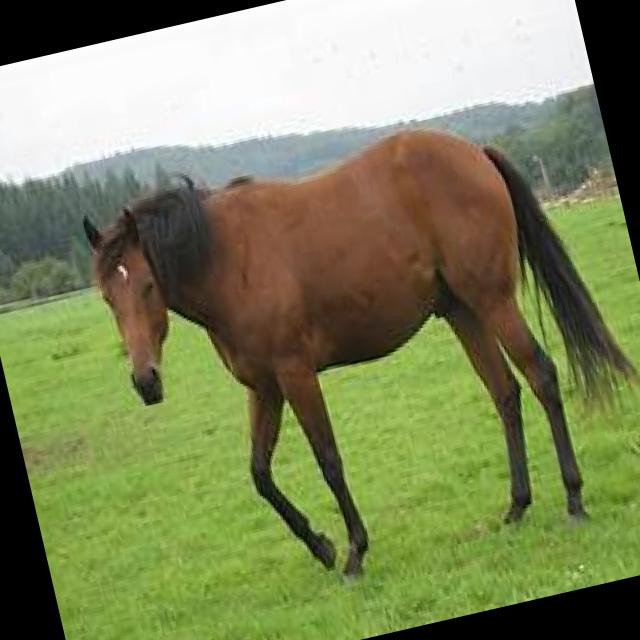horse: (77, 94, 640, 616)
